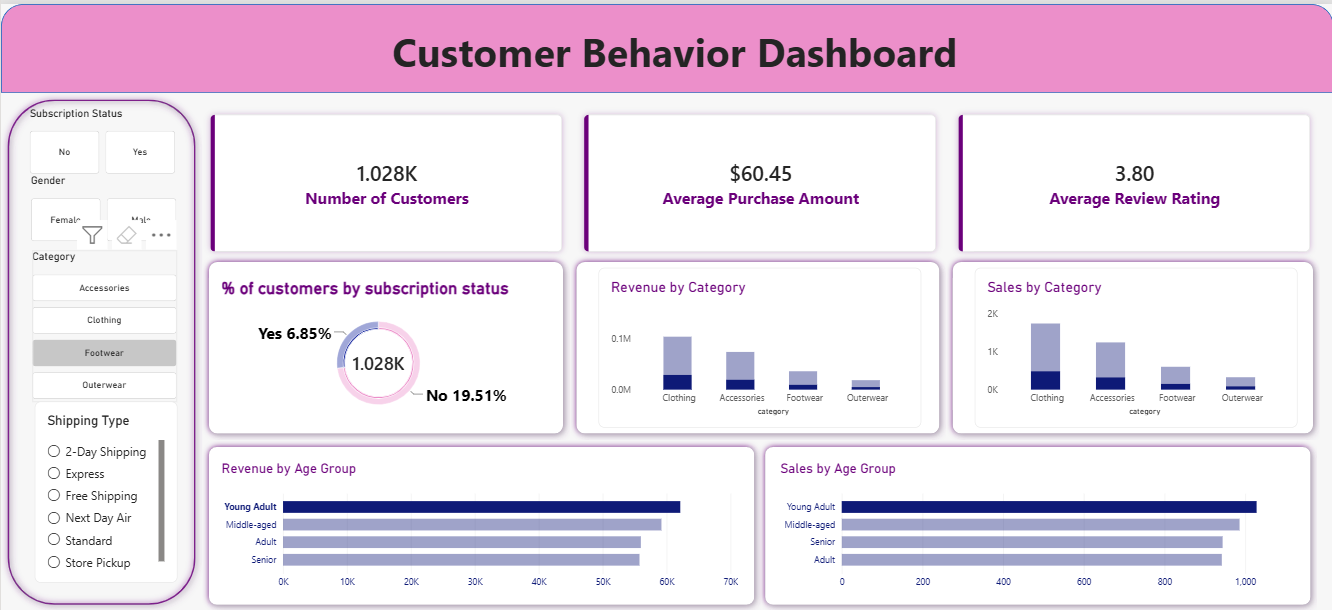

The dashboard page shown, as its layout file describes it:
{"tool":"powerbi","page":{"name":"Page 1","canvas":[1800,820],"ordinal":0},"visuals":[{"type":"shape","box":[271.9,589.3,754.8,231.3],"z":0},{"type":"shape","box":[768.3,339.4,508.3,249.9],"z":1000},{"type":"cardVisual","fields":{"Data":["public customer.Number of Customers","public customer.Average Purchase Amount","public customer.Average Review Rating"]},"box":[271.9,138.5,1509.6,207.7],"z":2000},{"type":"shape","box":[0,0,1800.3,120.2],"z":3000},{"type":"textbox","box":[1425.5,27.1,495,111.1],"z":4000},{"type":"shape","box":[271.9,339.4,496.4,249.9],"z":5000},{"type":"donutChart","title":"% of customers by subscription status","fields":{"Category":["public customer.subscription_status"],"Y":["CountNonNull(public customer.customer_id)"]},"box":[282,356.3,455.9,216.1],"z":6000},{"type":"textbox","box":[528.6,27.1,787,75],"z":7000},{"type":"columnChart","title":"Revenue by Category","fields":{"Category":["public customer.category"],"Y":["Sum(public customer.purchase_amount)"]},"box":[807.1,356.3,435.6,216.1],"z":8000},{"type":"shape","box":[1276.5,339.4,504.9,249.9],"z":9000},{"type":"columnChart","title":"Sales by Category","fields":{"Category":["public customer.category"],"Y":["CountNonNull(public customer.customer_id)"]},"box":[1315.4,356.3,435.6,216.1],"z":10000},{"type":"shape","box":[0,119.9,271.9,700.8],"z":11000},{"type":"advancedSlicerVisual","fields":{"Values":["public customer.subscription_status"]},"box":[38.8,138.5,197.6,91.2],"z":12000},{"type":"advancedSlicerVisual","fields":{"Values":["public customer.gender"]},"box":[40.5,229.6,197.6,91.2],"z":13000},{"type":"advancedSlicerVisual","fields":{"Values":["public customer.category"]},"box":[42.2,332.6,195.9,204.3],"z":14000},{"type":"listSlicer","fields":{"Values":["public customer.shipping_type"]},"box":[45.6,537,192.5,244.8],"z":15000},{"type":"clusteredBarChart","title":"Revenue by Age Group","fields":{"Category":["public customer.age_group"],"Y":["Sum(public customer.purchase_amount)"]},"box":[282,602.8,729.5,206],"z":16000},{"type":"shape","box":[1023.3,589.3,754.8,231.3],"z":16001},{"type":"clusteredBarChart","title":"Sales by Age Group","fields":{"Category":["public customer.age_group"],"Y":["CountNonNull(public customer.customer_id)"]},"box":[1036.8,602.8,729.5,206],"z":16002}]}

Visuals, with their boxes in screenshot pixels (x1, y1, x2, y2), scaled from the page's 1800x820 canvas onto the 1332x610 screenshot:
shape: select_region(201, 438, 760, 609)
shape: select_region(569, 252, 945, 438)
cardVisual - public customer.Number of Customers x public customer.Average Purchase Amount: select_region(201, 103, 1318, 258)
shape: select_region(0, 0, 1331, 89)
textbox: select_region(1055, 20, 1331, 103)
shape: select_region(201, 252, 569, 438)
"% of customers by subscription status" donutChart: select_region(209, 265, 546, 426)
textbox: select_region(391, 20, 974, 76)
"Revenue by Category" columnChart: select_region(597, 265, 920, 426)
shape: select_region(945, 252, 1318, 438)
"Sales by Category" columnChart: select_region(973, 265, 1296, 426)
shape: select_region(0, 89, 201, 609)
advancedSlicerVisual - public customer.subscription_status: select_region(29, 103, 175, 171)
advancedSlicerVisual - public customer.gender: select_region(30, 171, 176, 239)
advancedSlicerVisual - public customer.category: select_region(31, 247, 176, 399)
listSlicer - public customer.shipping_type: select_region(34, 399, 176, 582)
"Revenue by Age Group" clusteredBarChart: select_region(209, 448, 749, 602)
shape: select_region(757, 438, 1316, 609)
"Sales by Age Group" clusteredBarChart: select_region(767, 448, 1307, 602)
